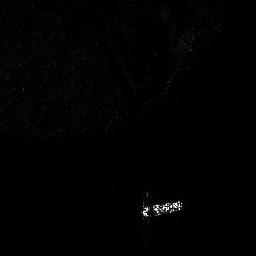ship: (135, 190, 186, 222)
